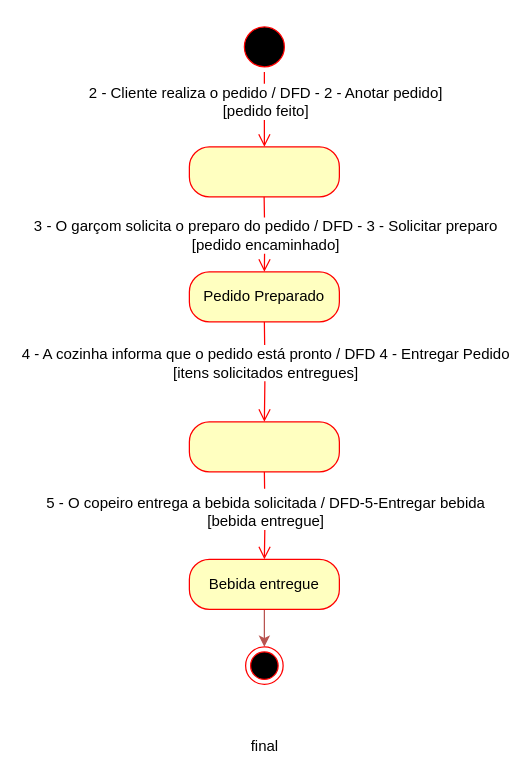
Image size: 530x781. Some labels were removed from this diagram. Each missing label, with the box of its shape:
Pedido Cadastrado: (188, 146, 339, 197)
Pedido Entregue: (188, 421, 339, 472)
